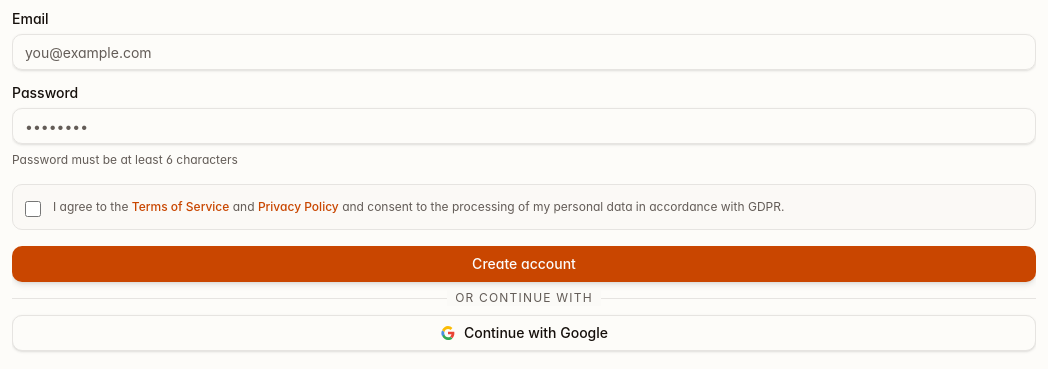
it: <AuthForm mode="signup" /> consent › shows the callout instead of signing up when the form is submitted without consent
Type "a@b.co" into the field labelled "Email" at (524, 52), box [12,34,1036,70]
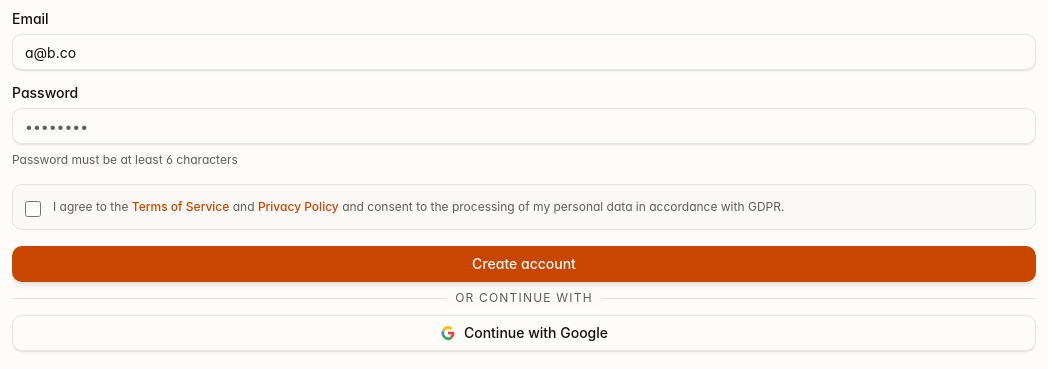
Type "hunter22" into the password field labelled "Password" at (524, 126), box [12,108,1036,144]
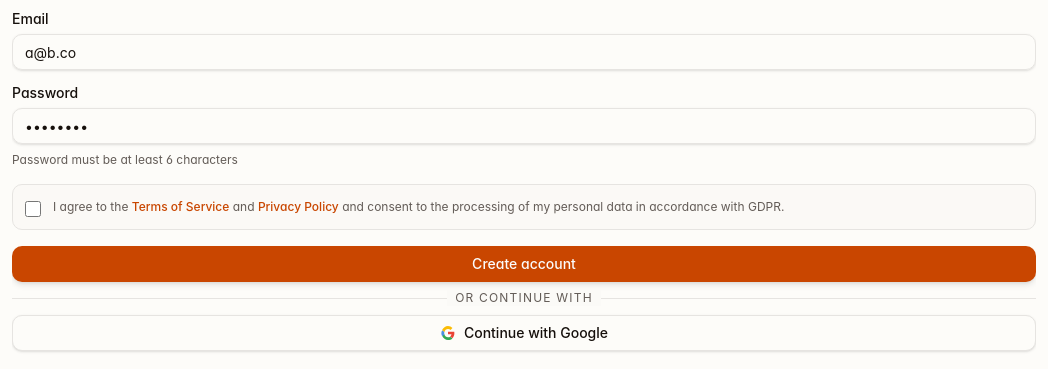
Click the button "Create account" at (524, 264), box [12,246,1036,282]
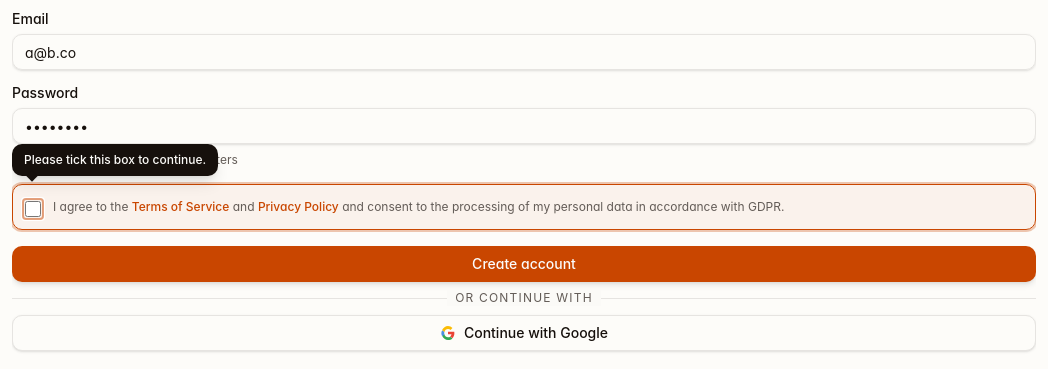
Result: the message "Please tick this box to continue." is shown at [12,144,218,176]
